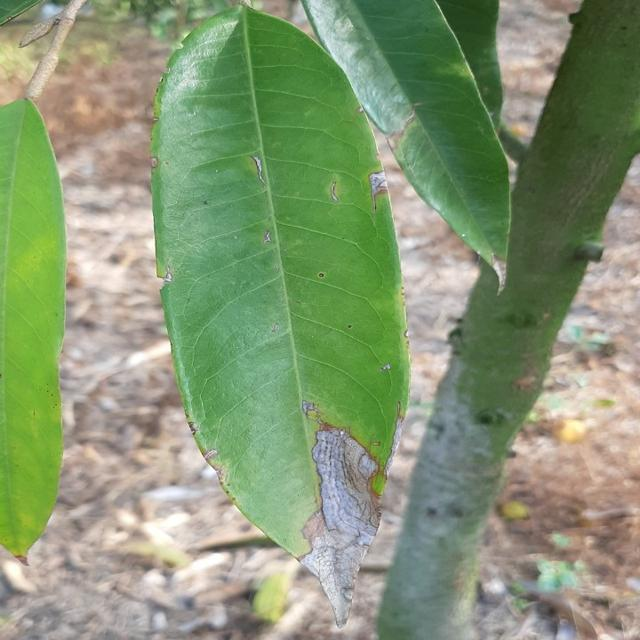Leaf Blight: (142, 6, 420, 640)
